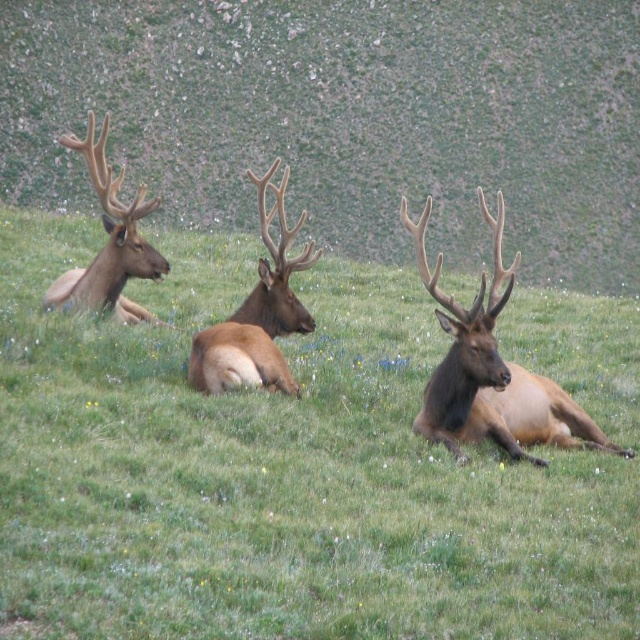Deer: (401, 192, 638, 465), (187, 155, 323, 395), (38, 109, 180, 329)
